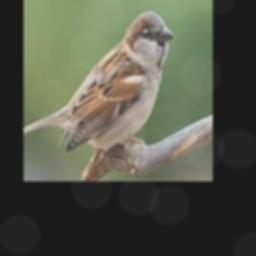Sparrow: (23, 10, 174, 154)
